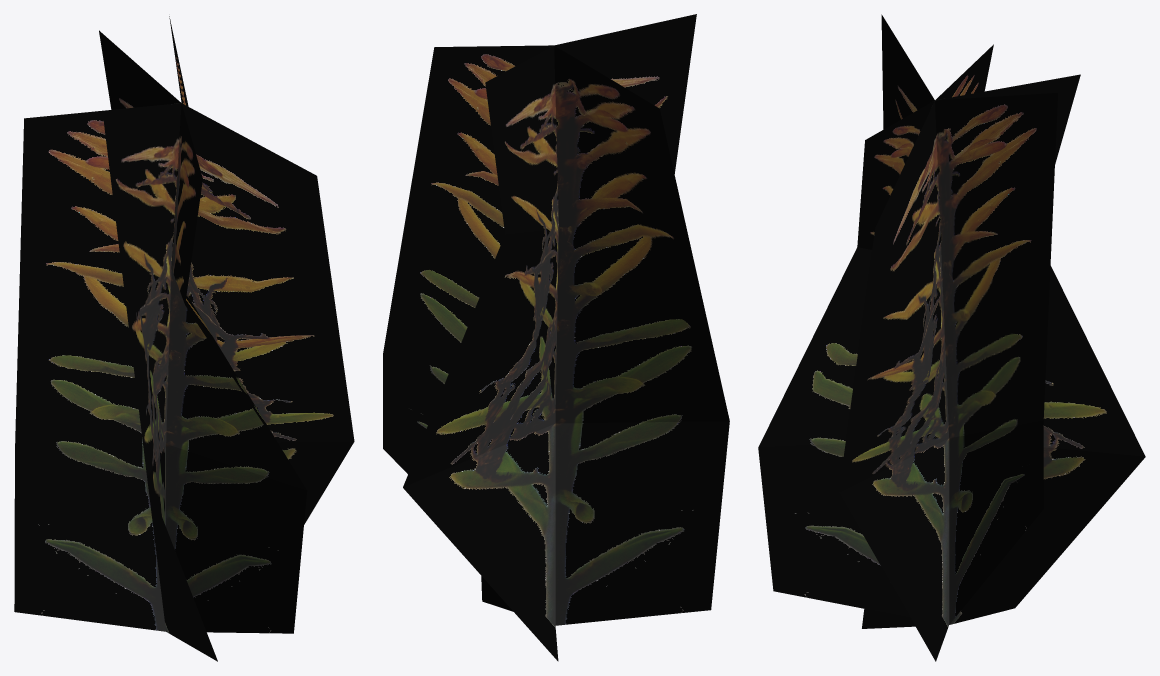
Rendered from plant.obj.
3 views of the same model, side by side, from view 1: azimuth 30°, elevation 25°; view 2: azimuth 150°, elevation 25°; view 3: azimuth 270°, elevation 25° (orthographic). The views are drawn at different scales.
Visible parts, largest first — view 1: plant_01_Plane.005; view 2: plant_01_Plane.005; view 3: plant_01_Plane.005.
Part boxes in pixels (x1,y1,x2,y2): plant_01_Plane.005: (14,16,354,661); plant_01_Plane.005: (383,14,729,661); plant_01_Plane.005: (758,14,1145,661).
Size of the model in its own units: 6.06 by 11.35 by 7.06.
